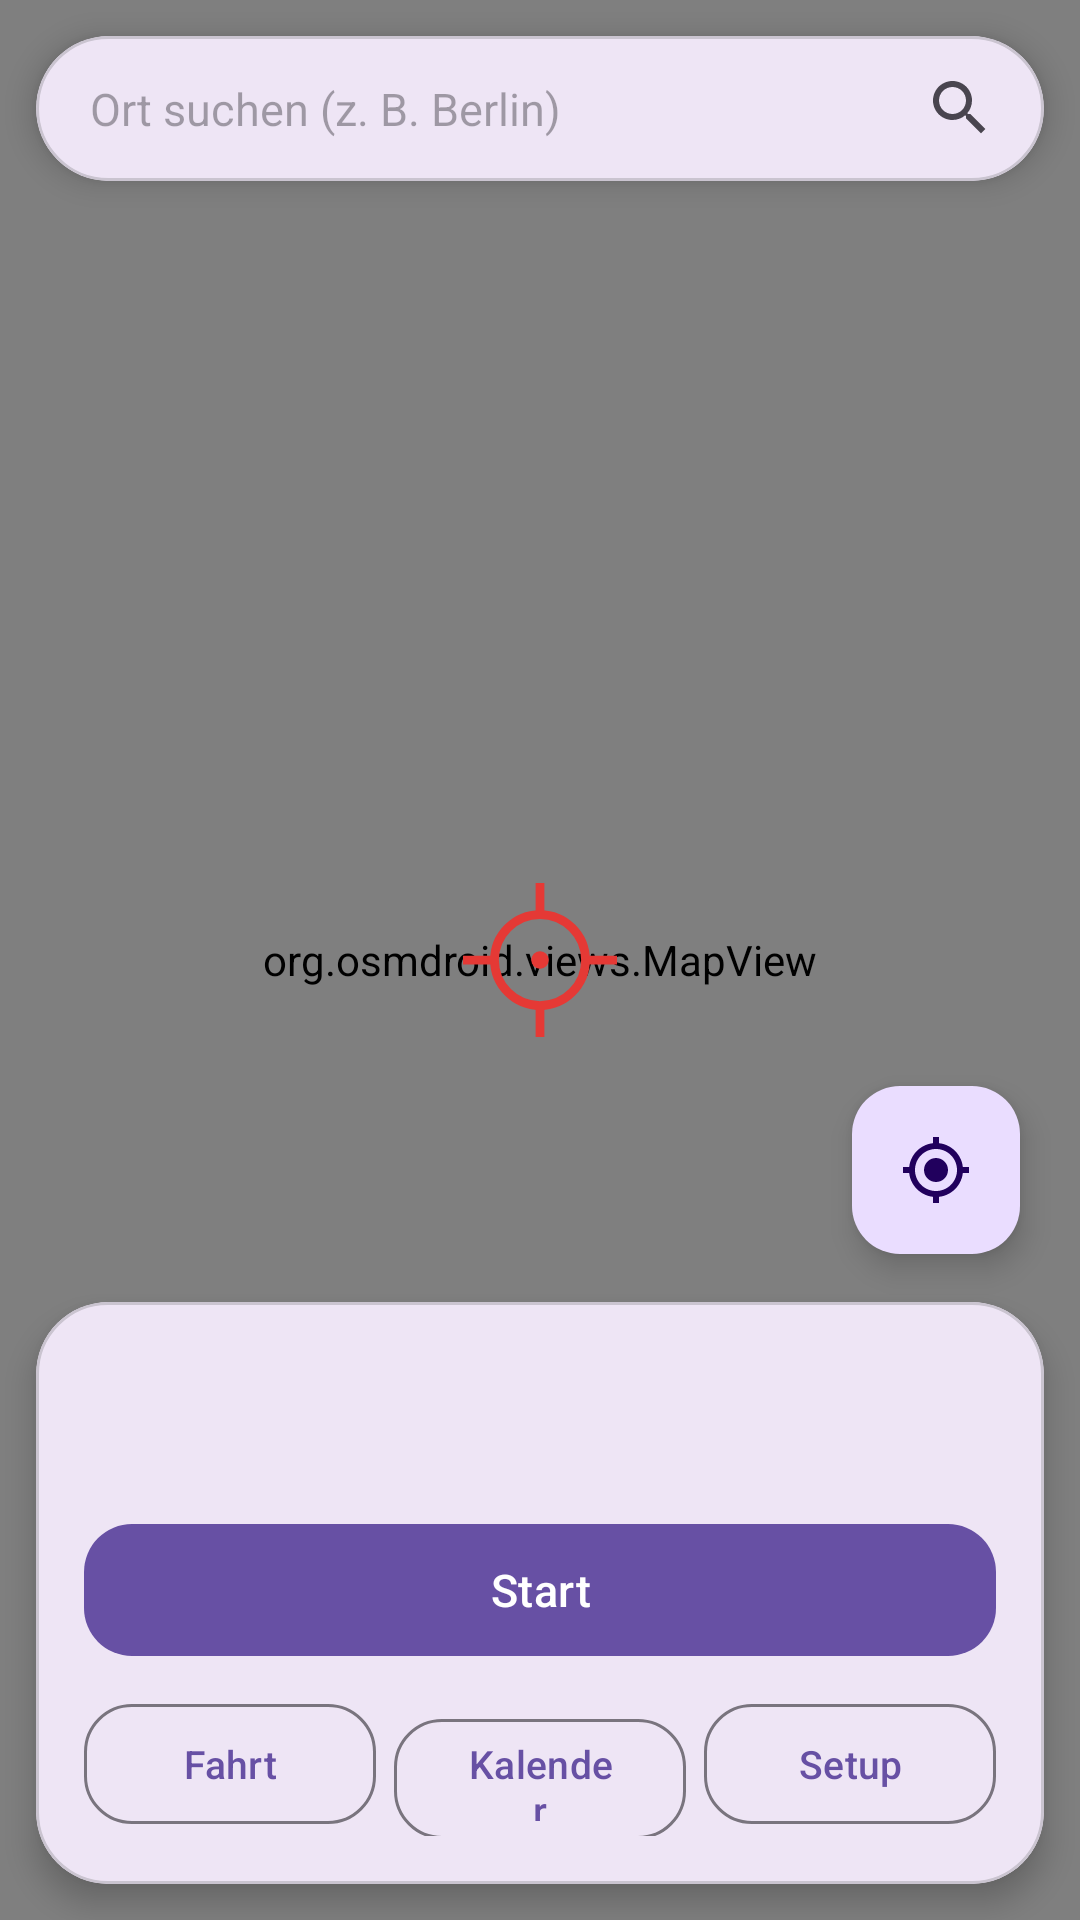

Screen size 1080*1920. Icon name, then its box in pixels as (x1, y1, x2, y2):
Standort: (852, 1086, 1020, 1254)
